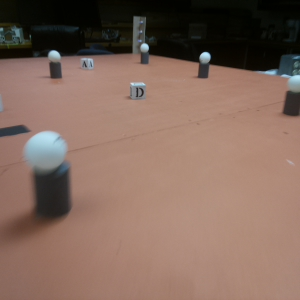blockA: (81, 58, 93, 70)
blockD: (130, 82, 148, 101)
corner: (132, 16, 146, 55)
obstacle: (24, 131, 75, 219), (284, 74, 298, 119), (48, 49, 63, 77), (197, 50, 211, 78), (141, 44, 151, 63)
